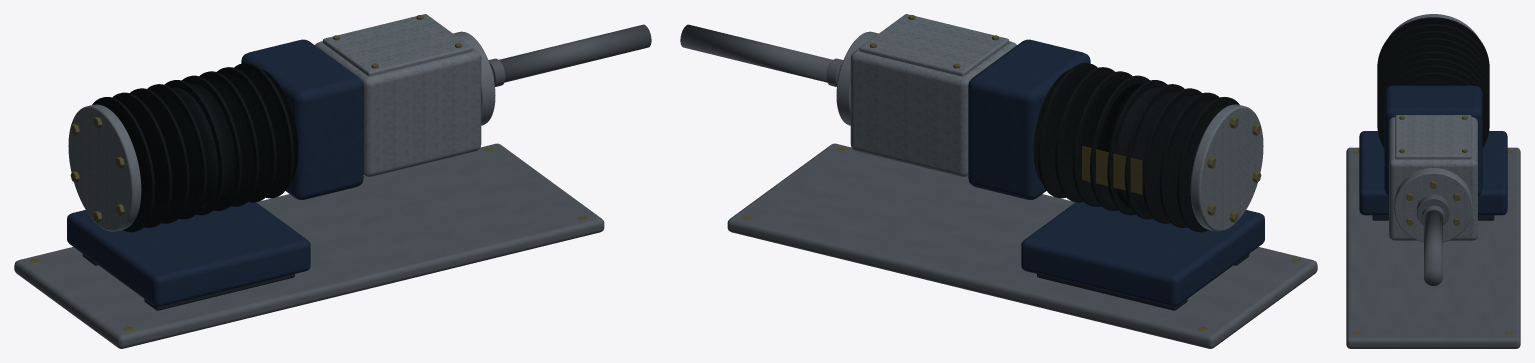
The model's file is drive_unit.glb.
3 views of the same model, side by side, from view 1: azimuth 30°, elevation 25°; view 2: azimuth 150°, elevation 25°; view 3: azimuth 270°, elevation 25° (orthographic). The views are drawn at different scales.
Visible parts, largest first — view 1: drive baseplate, drive motor cradle, motor steel body, reduction gearbox, motor fan shroud, motor end cap, gearbox cover plate, drive shaft, motor fin 1, motor fin 7, motor fin 2, motor fin 8 (+7 smaller); view 2: drive baseplate, drive motor cradle, reduction gearbox, motor steel body, motor fan shroud, motor end cap, gearbox cover plate, drive shaft, motor data plate, motor fin 1, motor fin 7, motor fin 2 (+8 smaller); view 3: drive baseplate, drive motor cradle, motor fan shroud, gearbox output flange, gearbox cover plate, reduction gearbox, drive shaft, motor fin 9, motor fin 1, motor fin 2, motor fin 3, motor fin 7 (+8 smaller).
Boxes of the visible parts, bbox=[...] form: drive baseplate: bbox=[14, 143, 604, 348]; drive motor cradle: bbox=[67, 202, 310, 306]; motor steel body: bbox=[102, 69, 298, 224]; reduction gearbox: bbox=[315, 41, 481, 176]; motor fan shroud: bbox=[241, 39, 363, 199]; motor end cap: bbox=[68, 104, 141, 231]; gearbox cover plate: bbox=[322, 14, 472, 76]; drive shaft: bbox=[490, 24, 651, 82]; motor fin 1: bbox=[92, 97, 154, 232]; motor fin 7: bbox=[199, 71, 259, 206]; motor fin 2: bbox=[112, 92, 172, 227]; motor fin 8: bbox=[217, 67, 276, 202]; drive baseplate: bbox=[727, 143, 1317, 348]; drive motor cradle: bbox=[1021, 202, 1264, 306]; reduction gearbox: bbox=[850, 41, 1016, 176]; motor steel body: bbox=[1033, 69, 1229, 224]; motor fan shroud: bbox=[968, 39, 1090, 199]; motor end cap: bbox=[1190, 104, 1263, 231]; gearbox cover plate: bbox=[859, 14, 1009, 76]; drive shaft: bbox=[680, 24, 841, 82]; motor data plate: bbox=[1082, 146, 1142, 194]; motor fin 1: bbox=[1177, 97, 1239, 232]; motor fin 7: bbox=[1072, 71, 1132, 206]; motor fin 2: bbox=[1159, 92, 1219, 227]; drive baseplate: bbox=[1346, 147, 1520, 348]; drive motor cradle: bbox=[1359, 131, 1507, 215]; motor fan shroud: bbox=[1384, 85, 1482, 195]; gearbox output flange: bbox=[1394, 168, 1472, 242]; gearbox cover plate: bbox=[1395, 115, 1471, 159]; reduction gearbox: bbox=[1389, 117, 1477, 240]; drive shaft: bbox=[1424, 205, 1442, 286]; motor fin 9: bbox=[1377, 72, 1489, 147]; motor fin 1: bbox=[1377, 17, 1489, 70]; motor fin 2: bbox=[1377, 24, 1489, 77]; motor fin 3: bbox=[1377, 31, 1489, 84]; motor fin 7: bbox=[1377, 58, 1489, 111].
Bounding box in the file's own units: 1.25 × 0.407 × 0.4.
8 materials, 8 textured.
